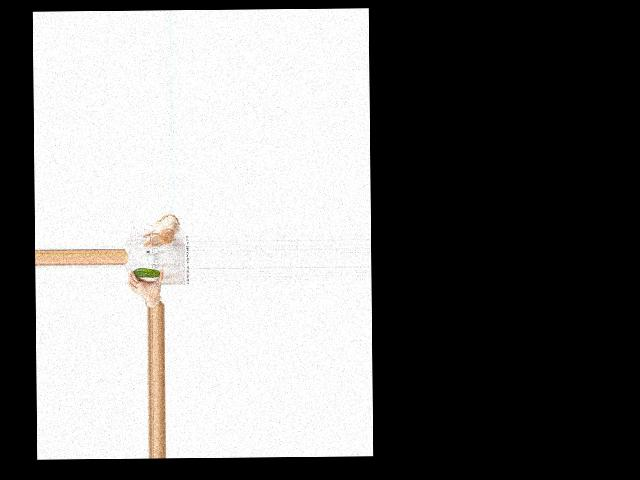cucumber: (133, 268, 161, 278)
